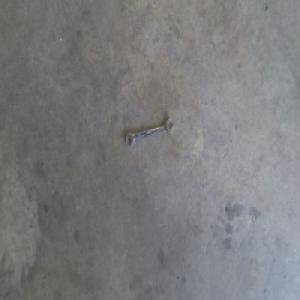Wrench: (124, 118, 174, 149)
